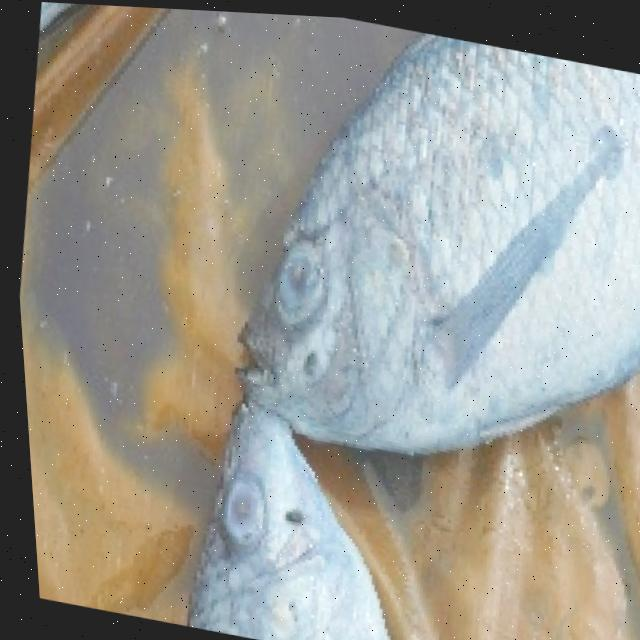Non-Fresh: (219, 31, 640, 485), (147, 408, 419, 640)
